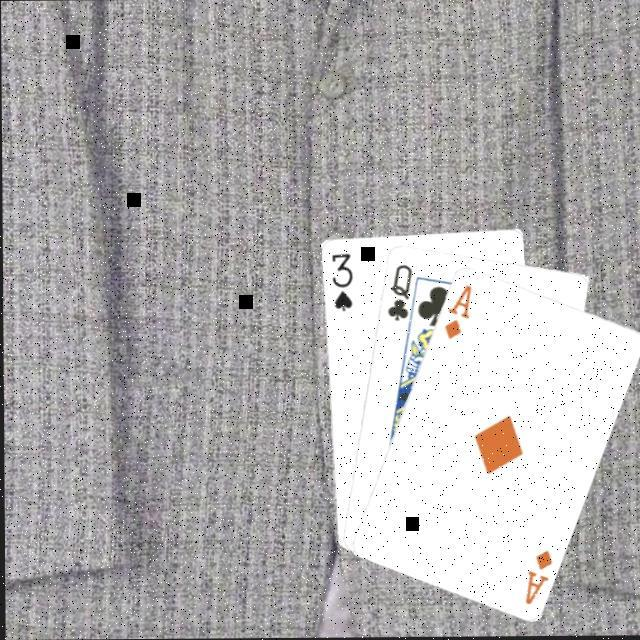3S: (325, 248, 353, 312)
AD: (438, 280, 473, 341), (518, 545, 552, 606)
QC: (380, 260, 412, 322)
